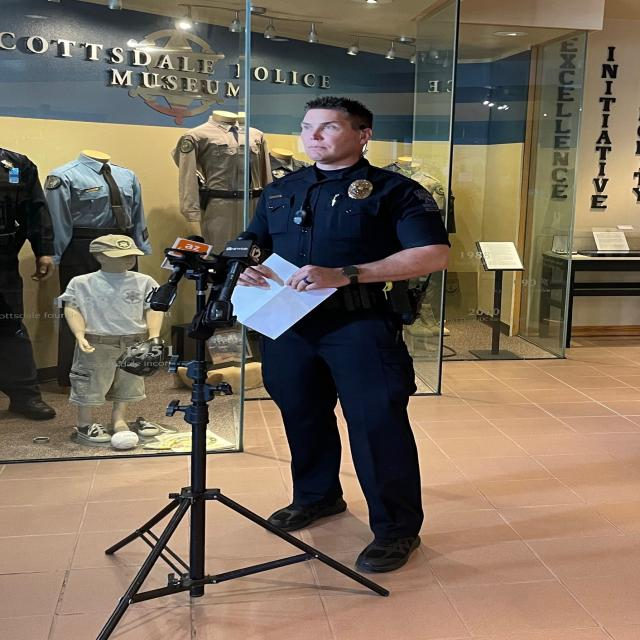police: (218, 82, 480, 584)
